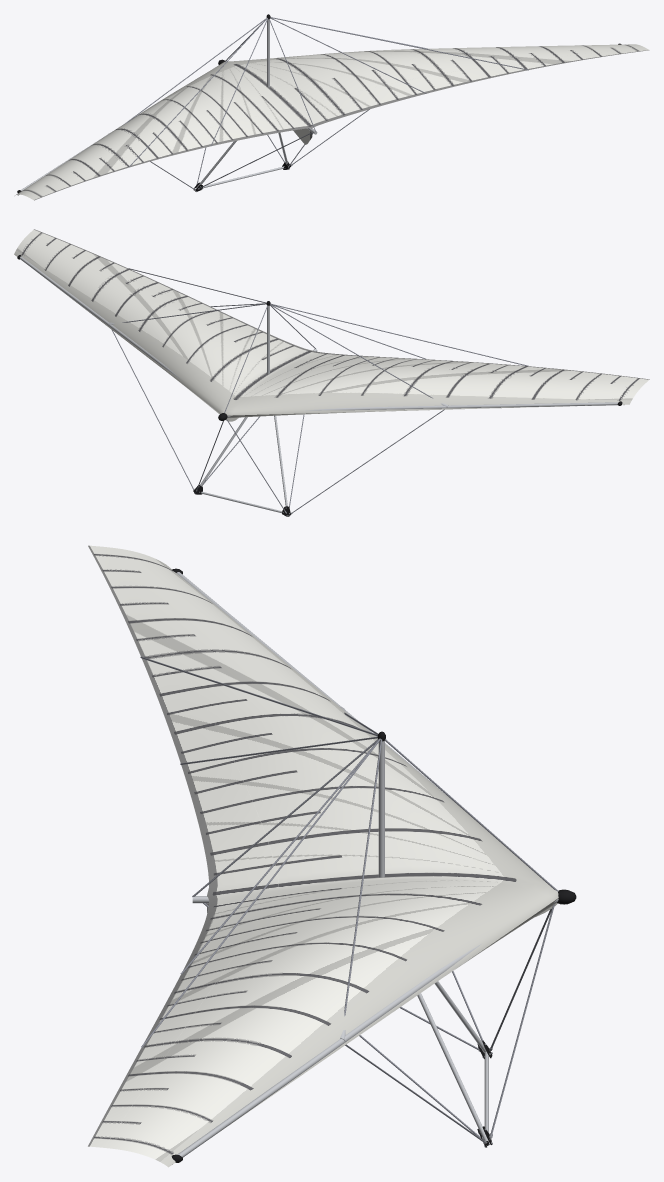
File: glider_apogee.glb
The picture shows the model from 3 angles, top to bottom: view 1: azimuth 30°, elevation 25°; view 2: azimuth 150°, elevation 25°; view 3: azimuth 270°, elevation 25°; orthographic projection. The views are drawn at different scales.
Parts seen in each view (by area): view 1: Sail, Frame, ControlFrame; view 2: Sail, Frame, ControlFrame; view 3: Sail, Frame, ControlFrame.
Part boxes in pixels (<box>): Sail: <box>15,44,649,200</box>; Frame: <box>17,14,621,195</box>; ControlFrame: <box>150,109,369,191</box>; Sail: <box>14,229,649,421</box>; Frame: <box>17,255,622,420</box>; ControlFrame: <box>112,330,444,516</box>; Sail: <box>88,545,558,1167</box>; Frame: <box>140,568,576,1164</box>; ControlFrame: <box>203,903,554,1147</box>.
Size of the model in its own units: 9.9 by 2.85 by 3.4.
Materials: 7 (1 with a texture image).
